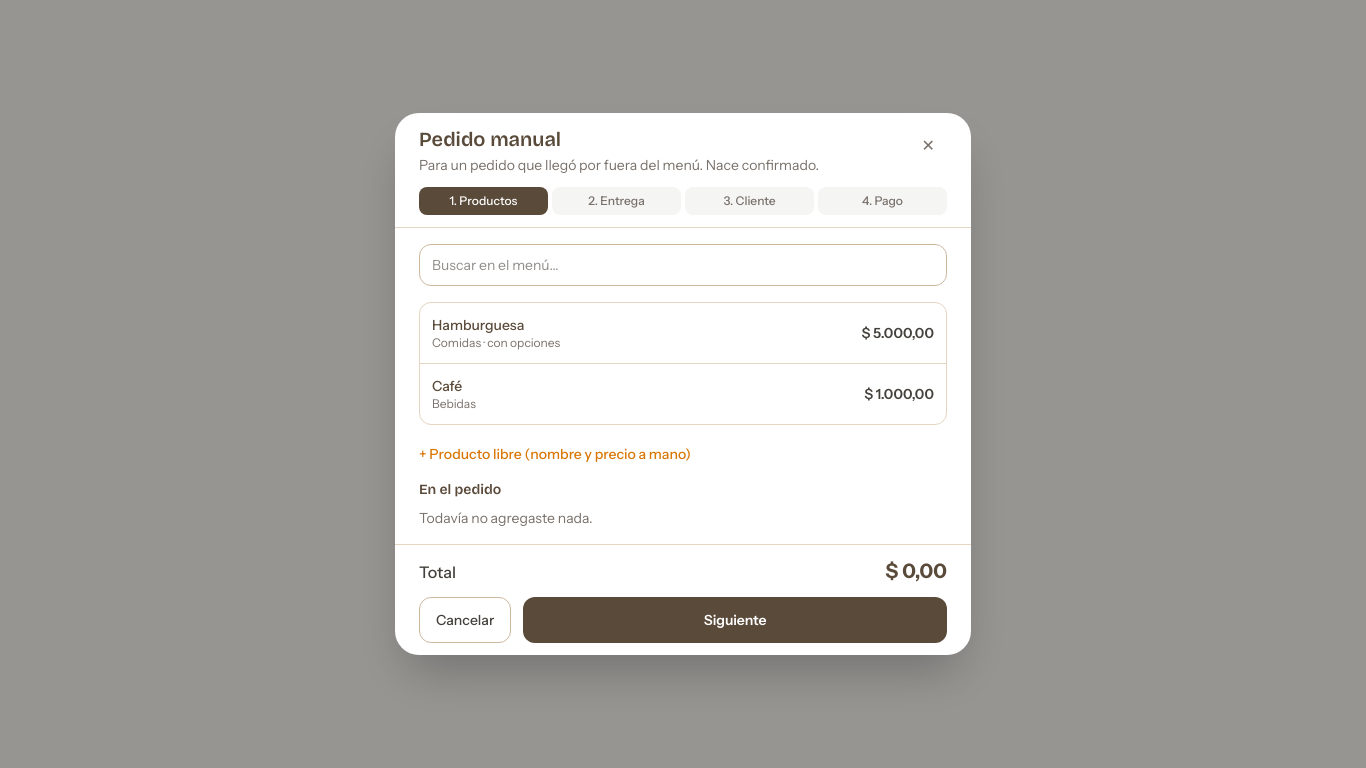
pedido manual — productos (ADMIN-PEDIDOS-40, 42 y 47) › el buscador filtra el menú sin tildes
The width and height of the screenshot is (1366, 768).
Type "CAFE" into the search field labelled "Buscar en el menú" at (683, 265), box [419,244,947,286]
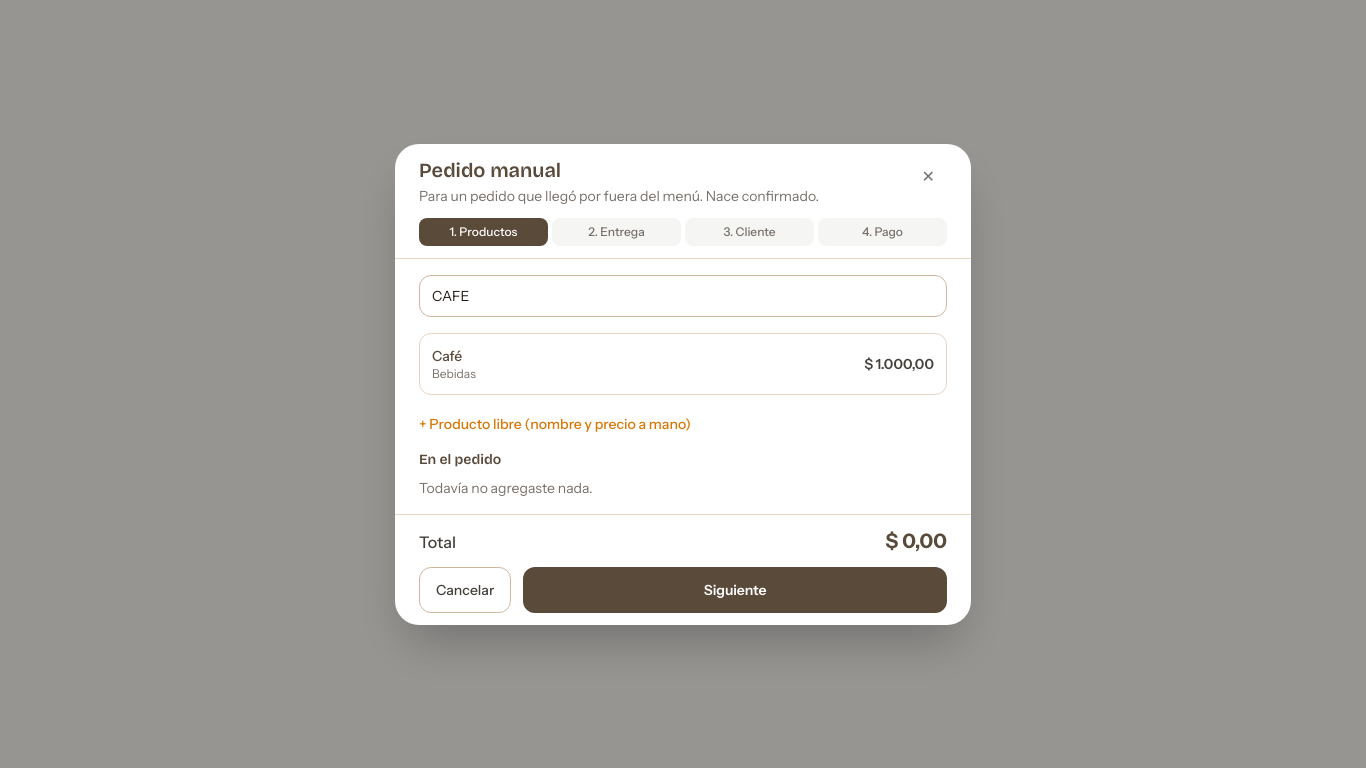
expect the text "Café" is shown: met, box [432,346,462,364]
expect the button "Hamburguesa" is gone: met
